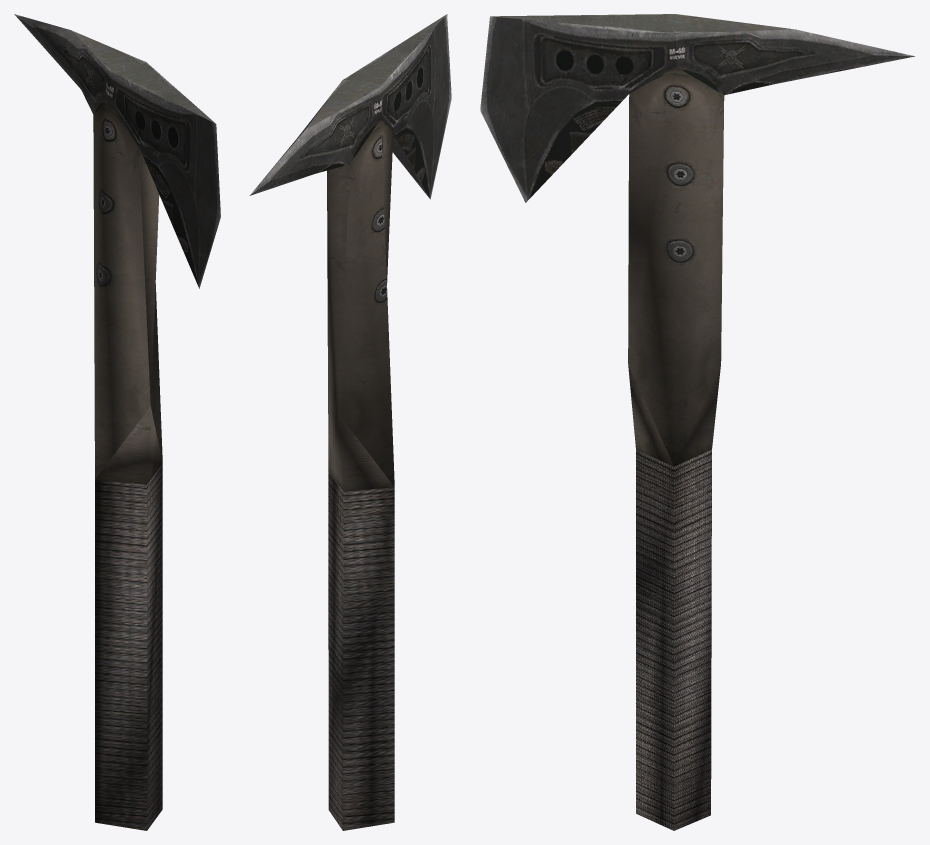
File: Melee_Prop_Axe_LOD_(000418).glb
3 renders of one model, left to right at view 1: azimuth 30°, elevation 25°; view 2: azimuth 150°, elevation 25°; view 3: azimuth 270°, elevation 25°, orthographic. The views are drawn at different scales.
Parts seen in each view (by area): view 1: jf_lod2; view 2: jf_lod2; view 3: jf_lod2.
Boxes of the visible parts, bbox=[...] form: jf_lod2: bbox=[14, 14, 220, 830]; jf_lod2: bbox=[249, 14, 451, 830]; jf_lod2: bbox=[480, 14, 914, 830].
Size of the model in its own units: 0.067 by 0.7162 by 0.3542.
1 material, 1 textured.
